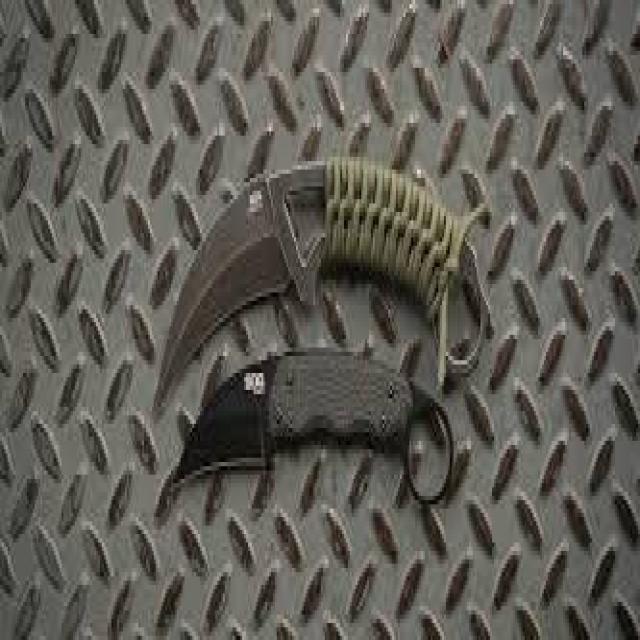Knife: (150, 107, 490, 407), (156, 327, 490, 526)
